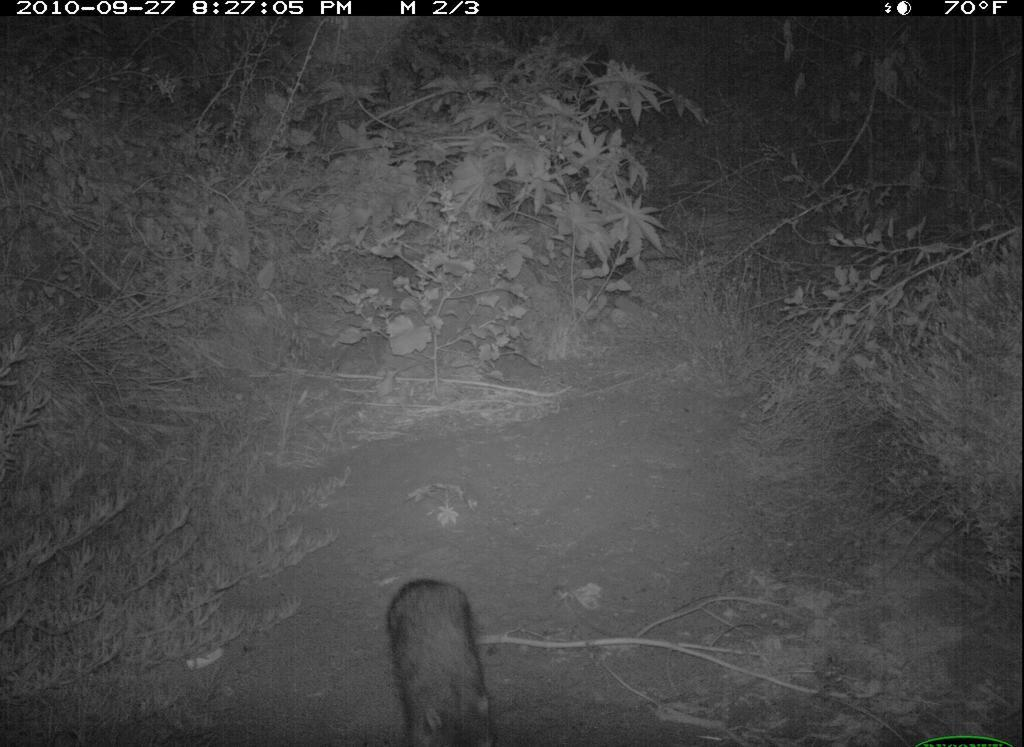raccoon: (377, 564, 517, 747)
